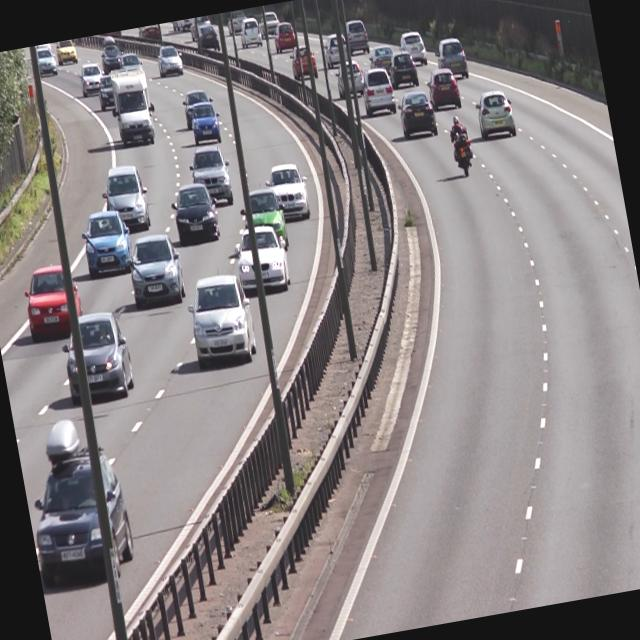Vehicle: (13, 408, 142, 594), (56, 307, 138, 411), (180, 271, 260, 369), (120, 230, 188, 310), (18, 260, 82, 342), (102, 62, 158, 150), (228, 224, 292, 297), (95, 159, 154, 237), (76, 207, 136, 283), (165, 177, 225, 250), (233, 182, 290, 255), (258, 159, 312, 225), (183, 138, 233, 205), (470, 86, 517, 142), (393, 90, 439, 136), (356, 66, 398, 116), (185, 97, 225, 146), (422, 64, 462, 112), (430, 36, 470, 84), (386, 46, 422, 92), (152, 41, 184, 83), (341, 18, 372, 58), (396, 28, 427, 66)
